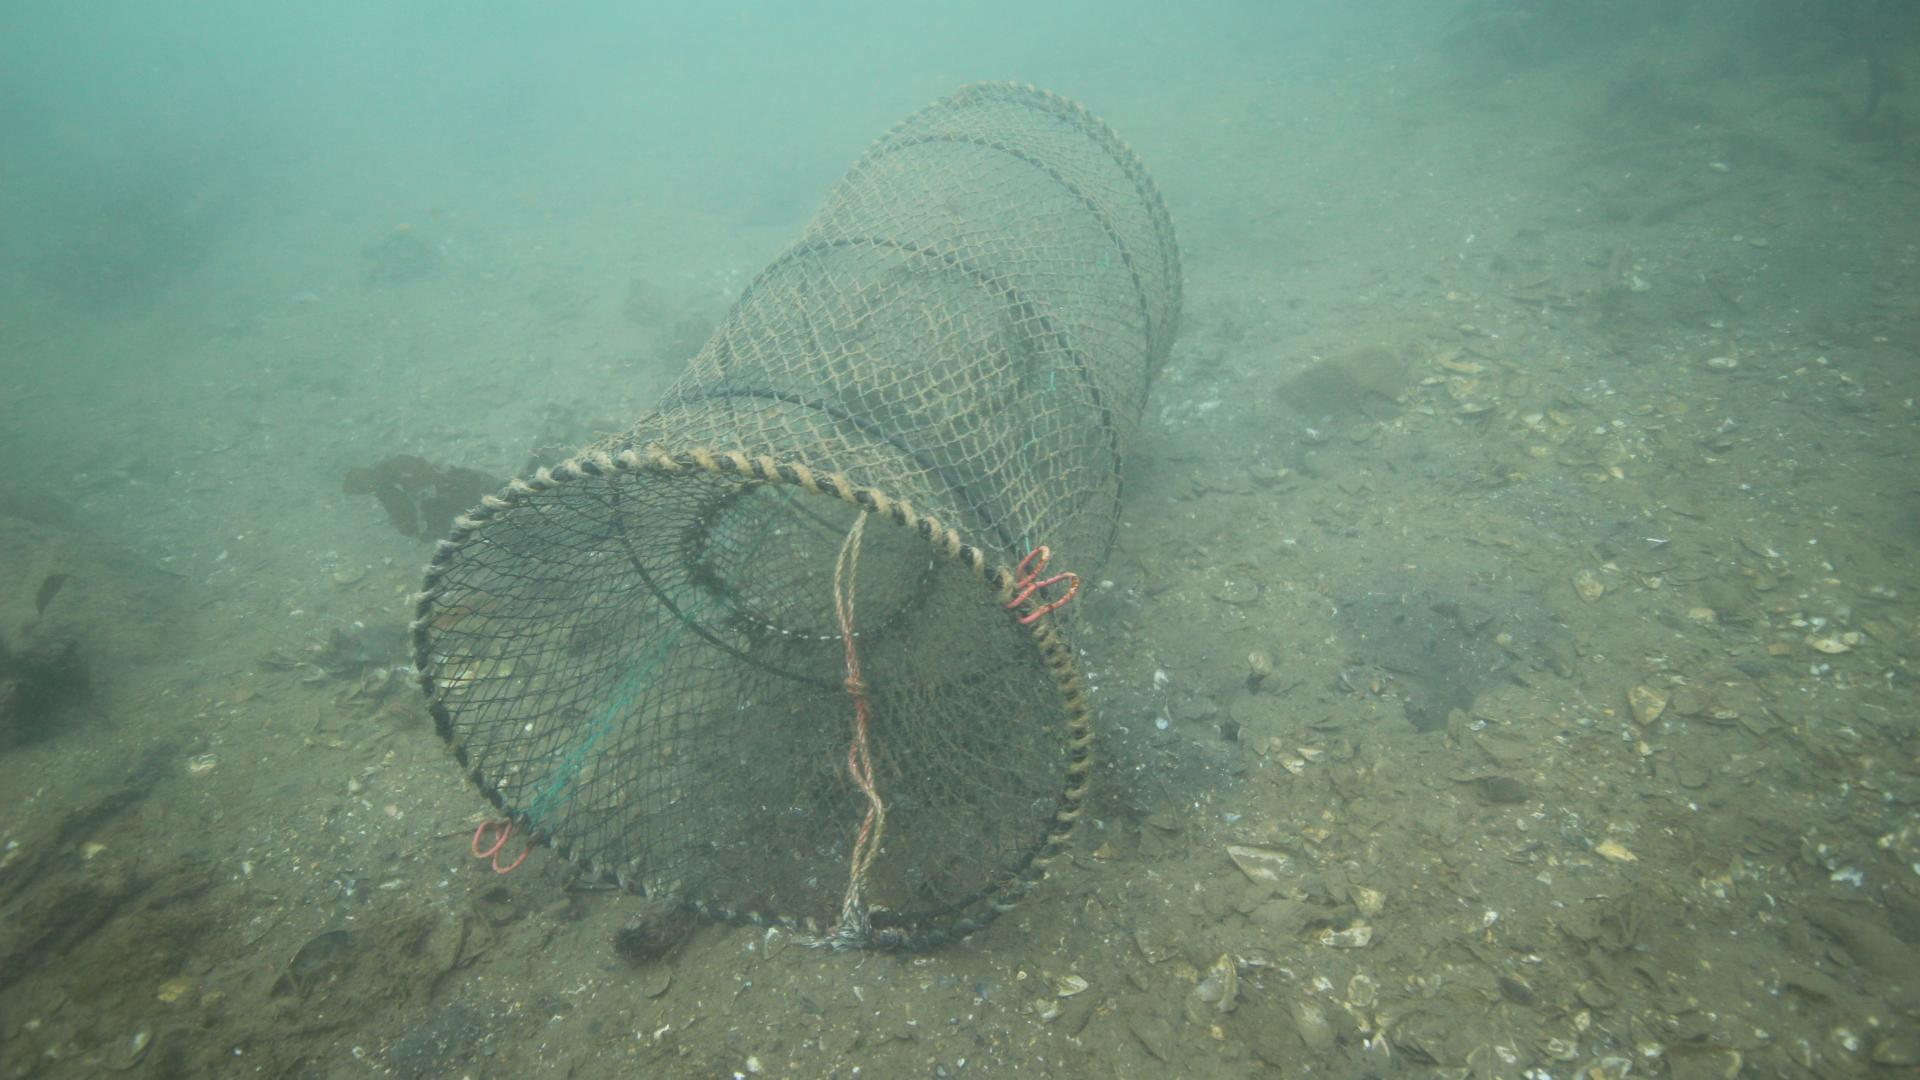spring fish trap: (409, 74, 1189, 952)
